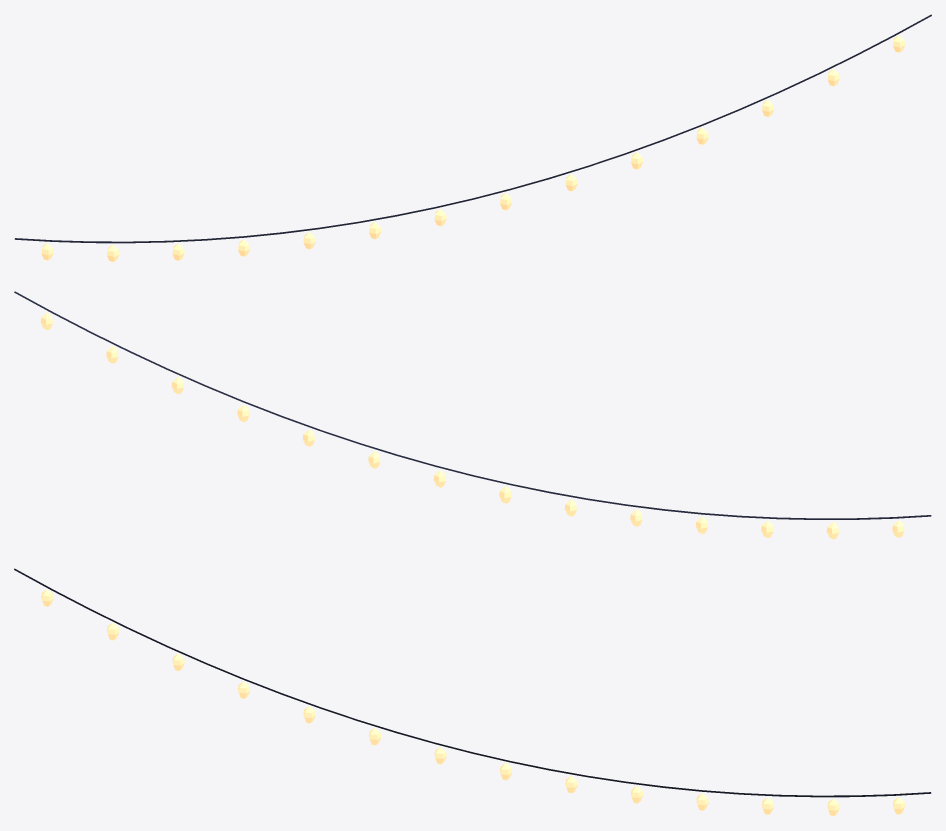
Rendered from string_lights_span.glb.
3 views of the same model, one above another, from view 1: azimuth 30°, elevation 25°; view 2: azimuth 150°, elevation 25°; view 3: azimuth 330°, elevation 25° (orthographic).
Parts seen in each view (by area): view 1: bulbs, wire; view 2: bulbs, wire; view 3: bulbs, wire.
Boxes of the visible parts, left/top/right/bottom form: bulbs: left=41, top=35, right=905, bottom=262; wire: left=14, top=14, right=931, bottom=243; bulbs: left=40, top=312, right=904, bottom=539; wire: left=14, top=291, right=931, bottom=519; bulbs: left=41, top=589, right=905, bottom=816; wire: left=14, top=568, right=931, bottom=797.
Bounding box in the file's own units: 8 × 0.7732 × 0.0955.
Materials: 2 (1 with a texture image).
